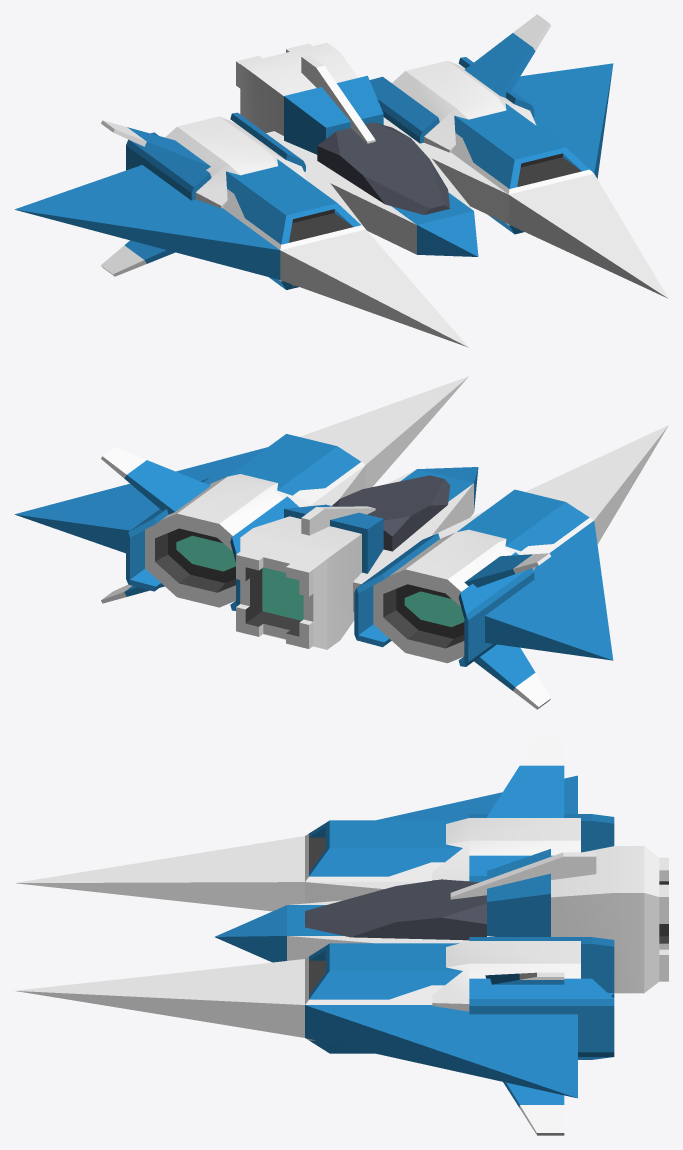
File: Spaceship Speeder.fbx
3 views of the same model, one above another, from view 1: azimuth 30°, elevation 25°; view 2: azimuth 150°, elevation 25°; view 3: azimuth 270°, elevation 25° (orthographic). The views are drawn at different scales.
Parts seen in each view (by area): view 1: roof_end_60, engine_default_38, engine_high_54, engine_high_39, glass_high_16, engine_intake_48, engine_intake_58, roof_end_57, roof_end_43, roof_end_28, roof_end_29, plane_elevator_19 (+10 smaller); view 2: engine_default_38, engine_high_54, engine_high_39, roof_end_60, roof_end_43, engine_intake_48, engine_intake_58, glass_high_16, roof_end_57, wing_diagonalFin_51, roof_end_28, roof_end_29 (+7 smaller); view 3: engine_default_38, roof_end_43, engine_high_39, roof_end_29, engine_intake_48, engine_intake_58, glass_high_16, engine_high_54, roof_end_56, roof_end_57, wing_diagonalFin_55, plane_rudderLarge_50 (+9 smaller).
Part boxes in pixels (left/top/right/bottom): roof_end_60: left=14, top=165, right=280, bottom=279; engine_default_38: left=236, top=43, right=383, bottom=154; engine_high_54: left=126, top=112, right=307, bottom=208; engine_high_39: left=369, top=57, right=536, bottom=152; glass_high_16: left=317, top=122, right=450, bottom=214; engine_intake_48: left=451, top=103, right=593, bottom=194; engine_intake_58: left=223, top=159, right=365, bottom=250; roof_end_57: left=280, top=236, right=468, bottom=347; roof_end_43: left=512, top=63, right=613, bottom=178; roof_end_28: left=508, top=187, right=667, bottom=298; roof_end_29: left=537, top=174, right=668, bottom=298; plane_elevator_19: left=266, top=131, right=416, bottom=254; engine_default_38: left=236, top=504, right=383, bottom=649; engine_high_54: left=354, top=529, right=535, bottom=666; engine_high_39: left=126, top=474, right=309, bottom=610; roof_end_60: left=485, top=521, right=613, bottom=660; roof_end_43: left=14, top=447, right=267, bottom=553; engine_intake_48: left=228, top=434, right=365, bottom=505; engine_intake_58: left=457, top=489, right=593, bottom=554; glass_high_16: left=332, top=475, right=450, bottom=551; roof_end_57: left=551, top=425, right=668, bottom=544; wing_diagonalFin_51: left=101, top=447, right=210, bottom=514; roof_end_28: left=347, top=376, right=468, bottom=488; roof_end_29: left=300, top=376, right=468, bottom=451; engine_default_38: left=487, top=846, right=668, bottom=993; roof_end_43: left=305, top=1005, right=577, bottom=1098; engine_high_39: left=432, top=937, right=614, bottom=1059; roof_end_29: left=14, top=974, right=304, bottom=1037; engine_intake_48: left=305, top=943, right=462, bottom=1004; engine_intake_58: left=305, top=820, right=462, bottom=881; glass_high_16: left=305, top=879, right=486, bottom=940; engine_high_54: left=432, top=814, right=614, bottom=882; roof_end_56: left=14, top=866, right=304, bottom=911; roof_end_57: left=16, top=836, right=304, bottom=882; wing_diagonalFin_55: left=486, top=738, right=564, bottom=817; plane_rudderLarge_50: left=450, top=852, right=596, bottom=899.
Size of the model in its own units: 42 by 9.94 by 36.
